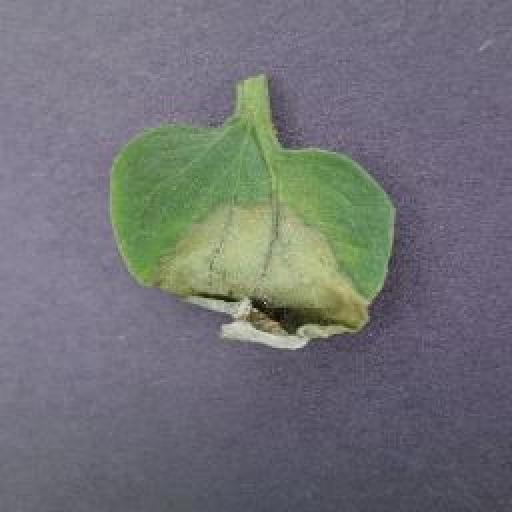disease_tomato: (110, 118, 398, 352)
